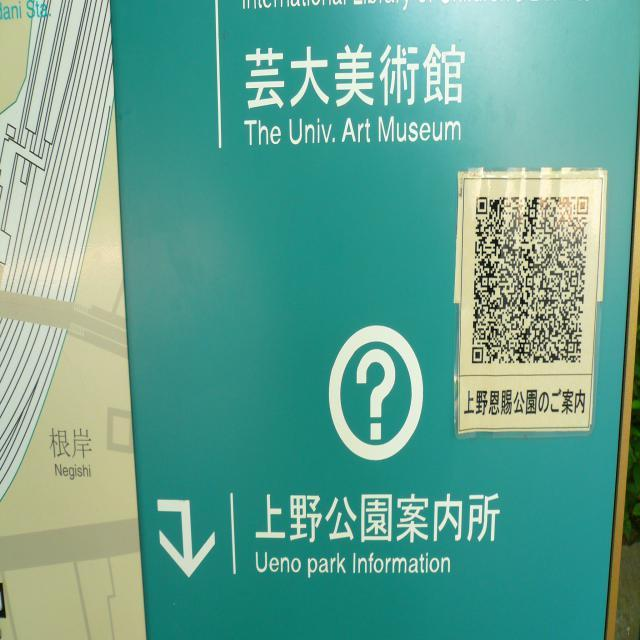qrcode: (473, 198, 589, 364)
